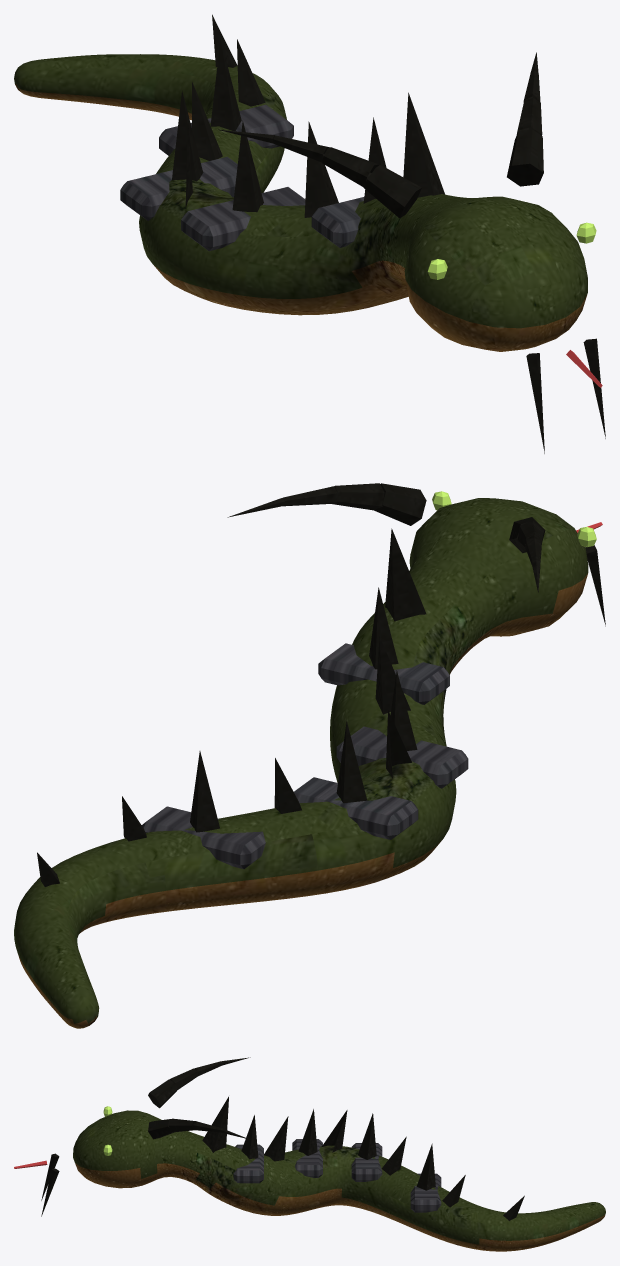
File: mon_sp_moss_serpent.glb
3 renders of one model, top to bottom at view 1: azimuth 30°, elevation 25°; view 2: azimuth 150°, elevation 25°; view 3: azimuth 270°, elevation 25°, orthographic. The views are drawn at different scales.
Parts seen in each view (by area): view 1: mon_sp_moss_serpent; view 2: mon_sp_moss_serpent; view 3: mon_sp_moss_serpent.
Boxes of the visible parts, left/top/right/bottom form: mon_sp_moss_serpent: left=14, top=14, right=605, bottom=453; mon_sp_moss_serpent: left=14, top=483, right=605, bottom=1028; mon_sp_moss_serpent: left=14, top=1057, right=605, bottom=1251.
Bounding box in the file's own units: 1.95 × 1.46 × 5.92.
6 materials, 6 textured.
